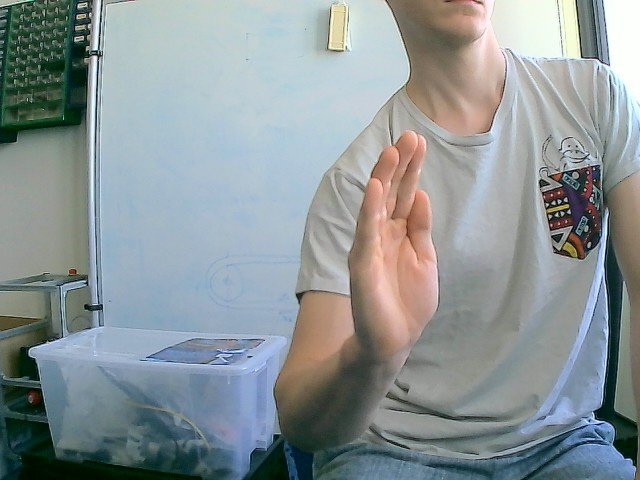stop: (346, 129, 441, 358)
